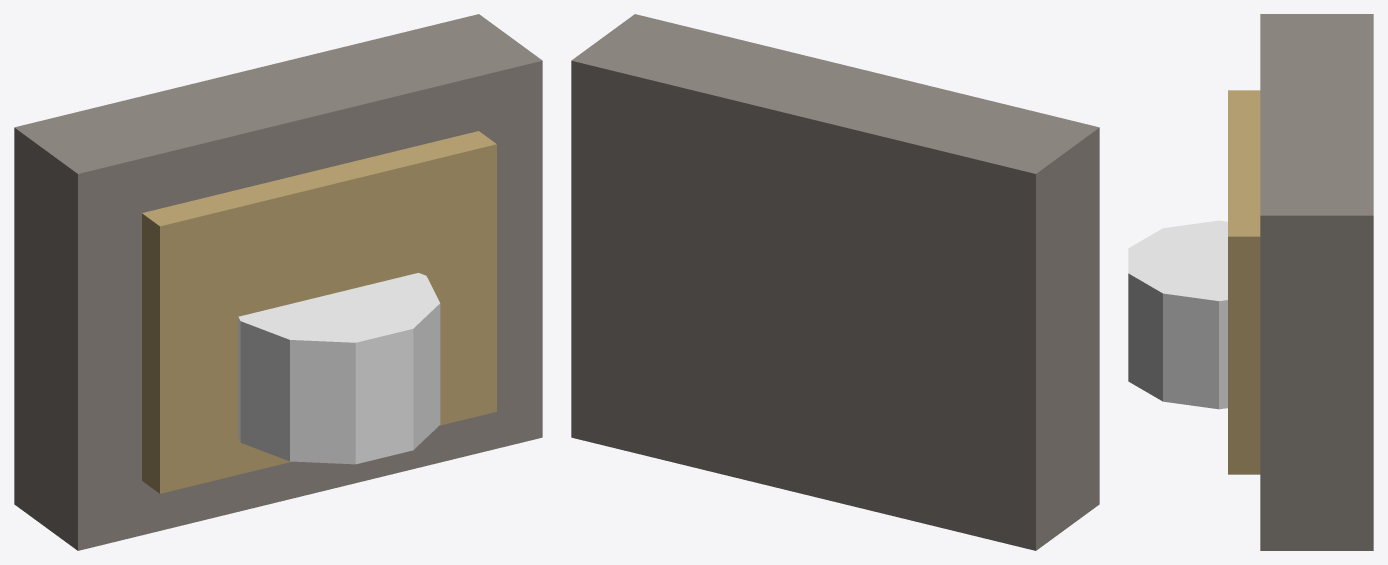
Rendered from boquilla_trampa.glb.
3 views of the same model, side by side, from view 1: azimuth 30°, elevation 25°; view 2: azimuth 150°, elevation 25°; view 3: azimuth 270°, elevation 25° (orthographic). The views are drawn at different scales.
Visible parts, largest first — view 1: boquilla_trampa; view 2: boquilla_trampa; view 3: boquilla_trampa.
Boxes of the visible parts, left/top/right/bottom form: boquilla_trampa: left=14, top=14, right=542, bottom=550; boquilla_trampa: left=571, top=14, right=1099, bottom=550; boquilla_trampa: left=1128, top=14, right=1373, bottom=550.
Bounding box in the file's own units: 0.4 × 0.31 × 0.2056.
